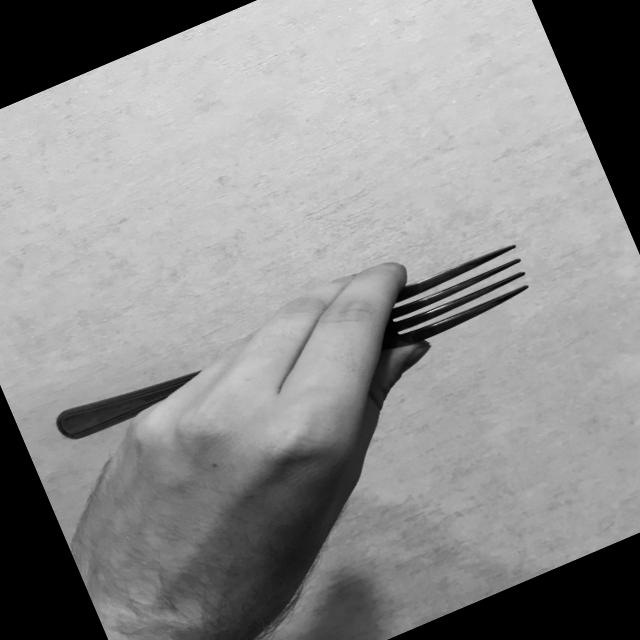fork: (50, 220, 538, 484)
